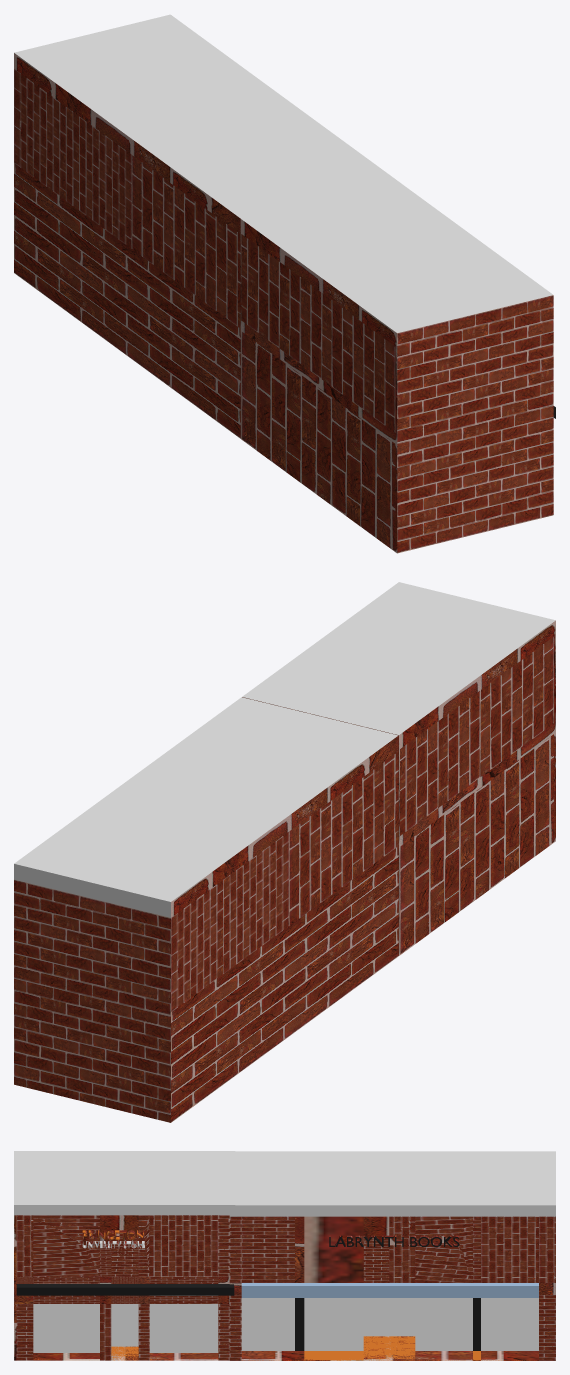
3 renders of one model, top to bottom at view 1: azimuth 30°, elevation 25°; view 2: azimuth 150°, elevation 25°; view 3: azimuth 270°, elevation 25°, orthographic. The views are drawn at different scales.
Visible parts, largest first — view 1: Cube; view 2: Cube; view 3: Cube.
Part boxes in pixels (x1,y1,x2,y2): Cube: [14, 14, 555, 553]; Cube: [14, 582, 555, 1122]; Cube: [14, 1151, 555, 1360].
Size of the model in its own units: 23.1 by 29.46 by 92.85.
7 materials, 1 textured.
